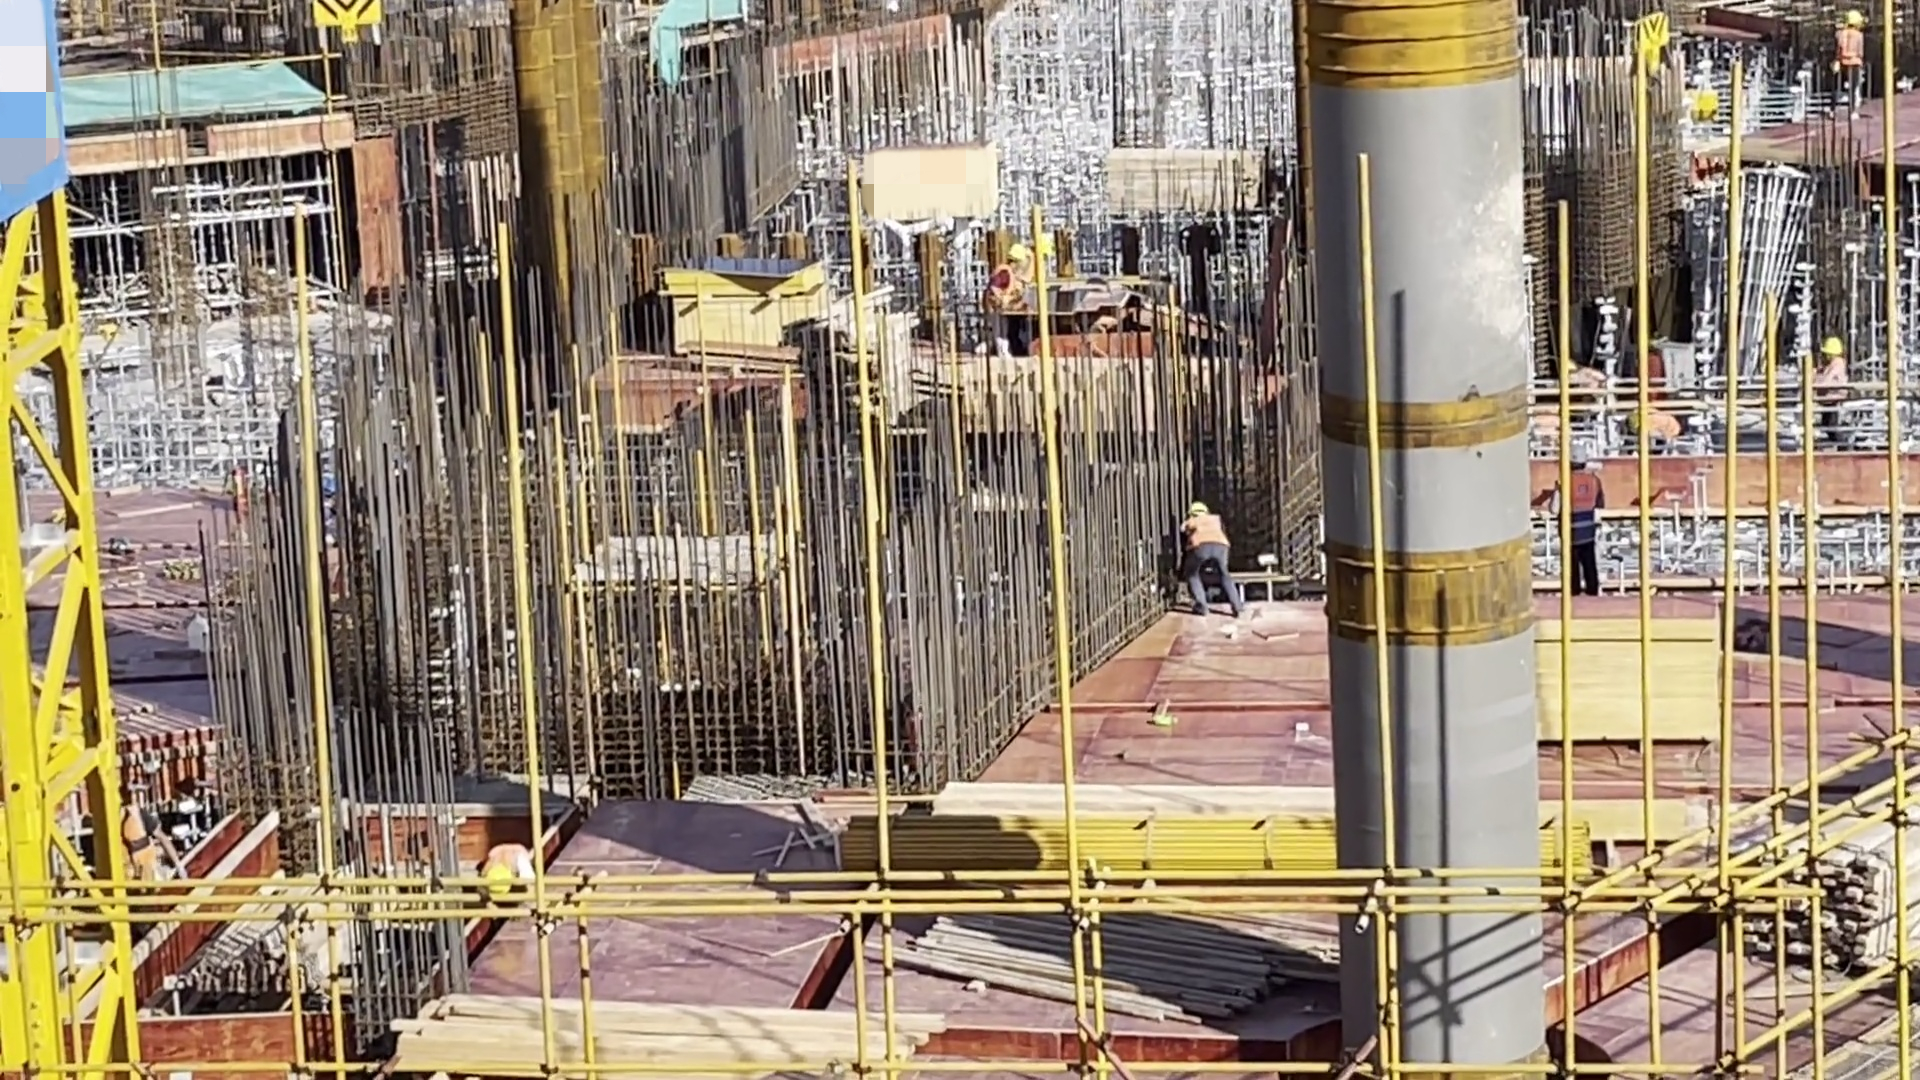helmet: (481, 860, 514, 899), (1818, 329, 1845, 365), (998, 240, 1026, 268), (1179, 494, 1209, 515), (1846, 10, 1865, 30)
person: (1544, 444, 1603, 593), (1167, 498, 1239, 614), (1808, 322, 1858, 445), (980, 243, 1031, 361), (470, 839, 540, 905), (1828, 6, 1867, 119), (1627, 397, 1682, 458)
vest: (1550, 466, 1597, 547), (1179, 513, 1229, 549), (1831, 28, 1866, 68)
